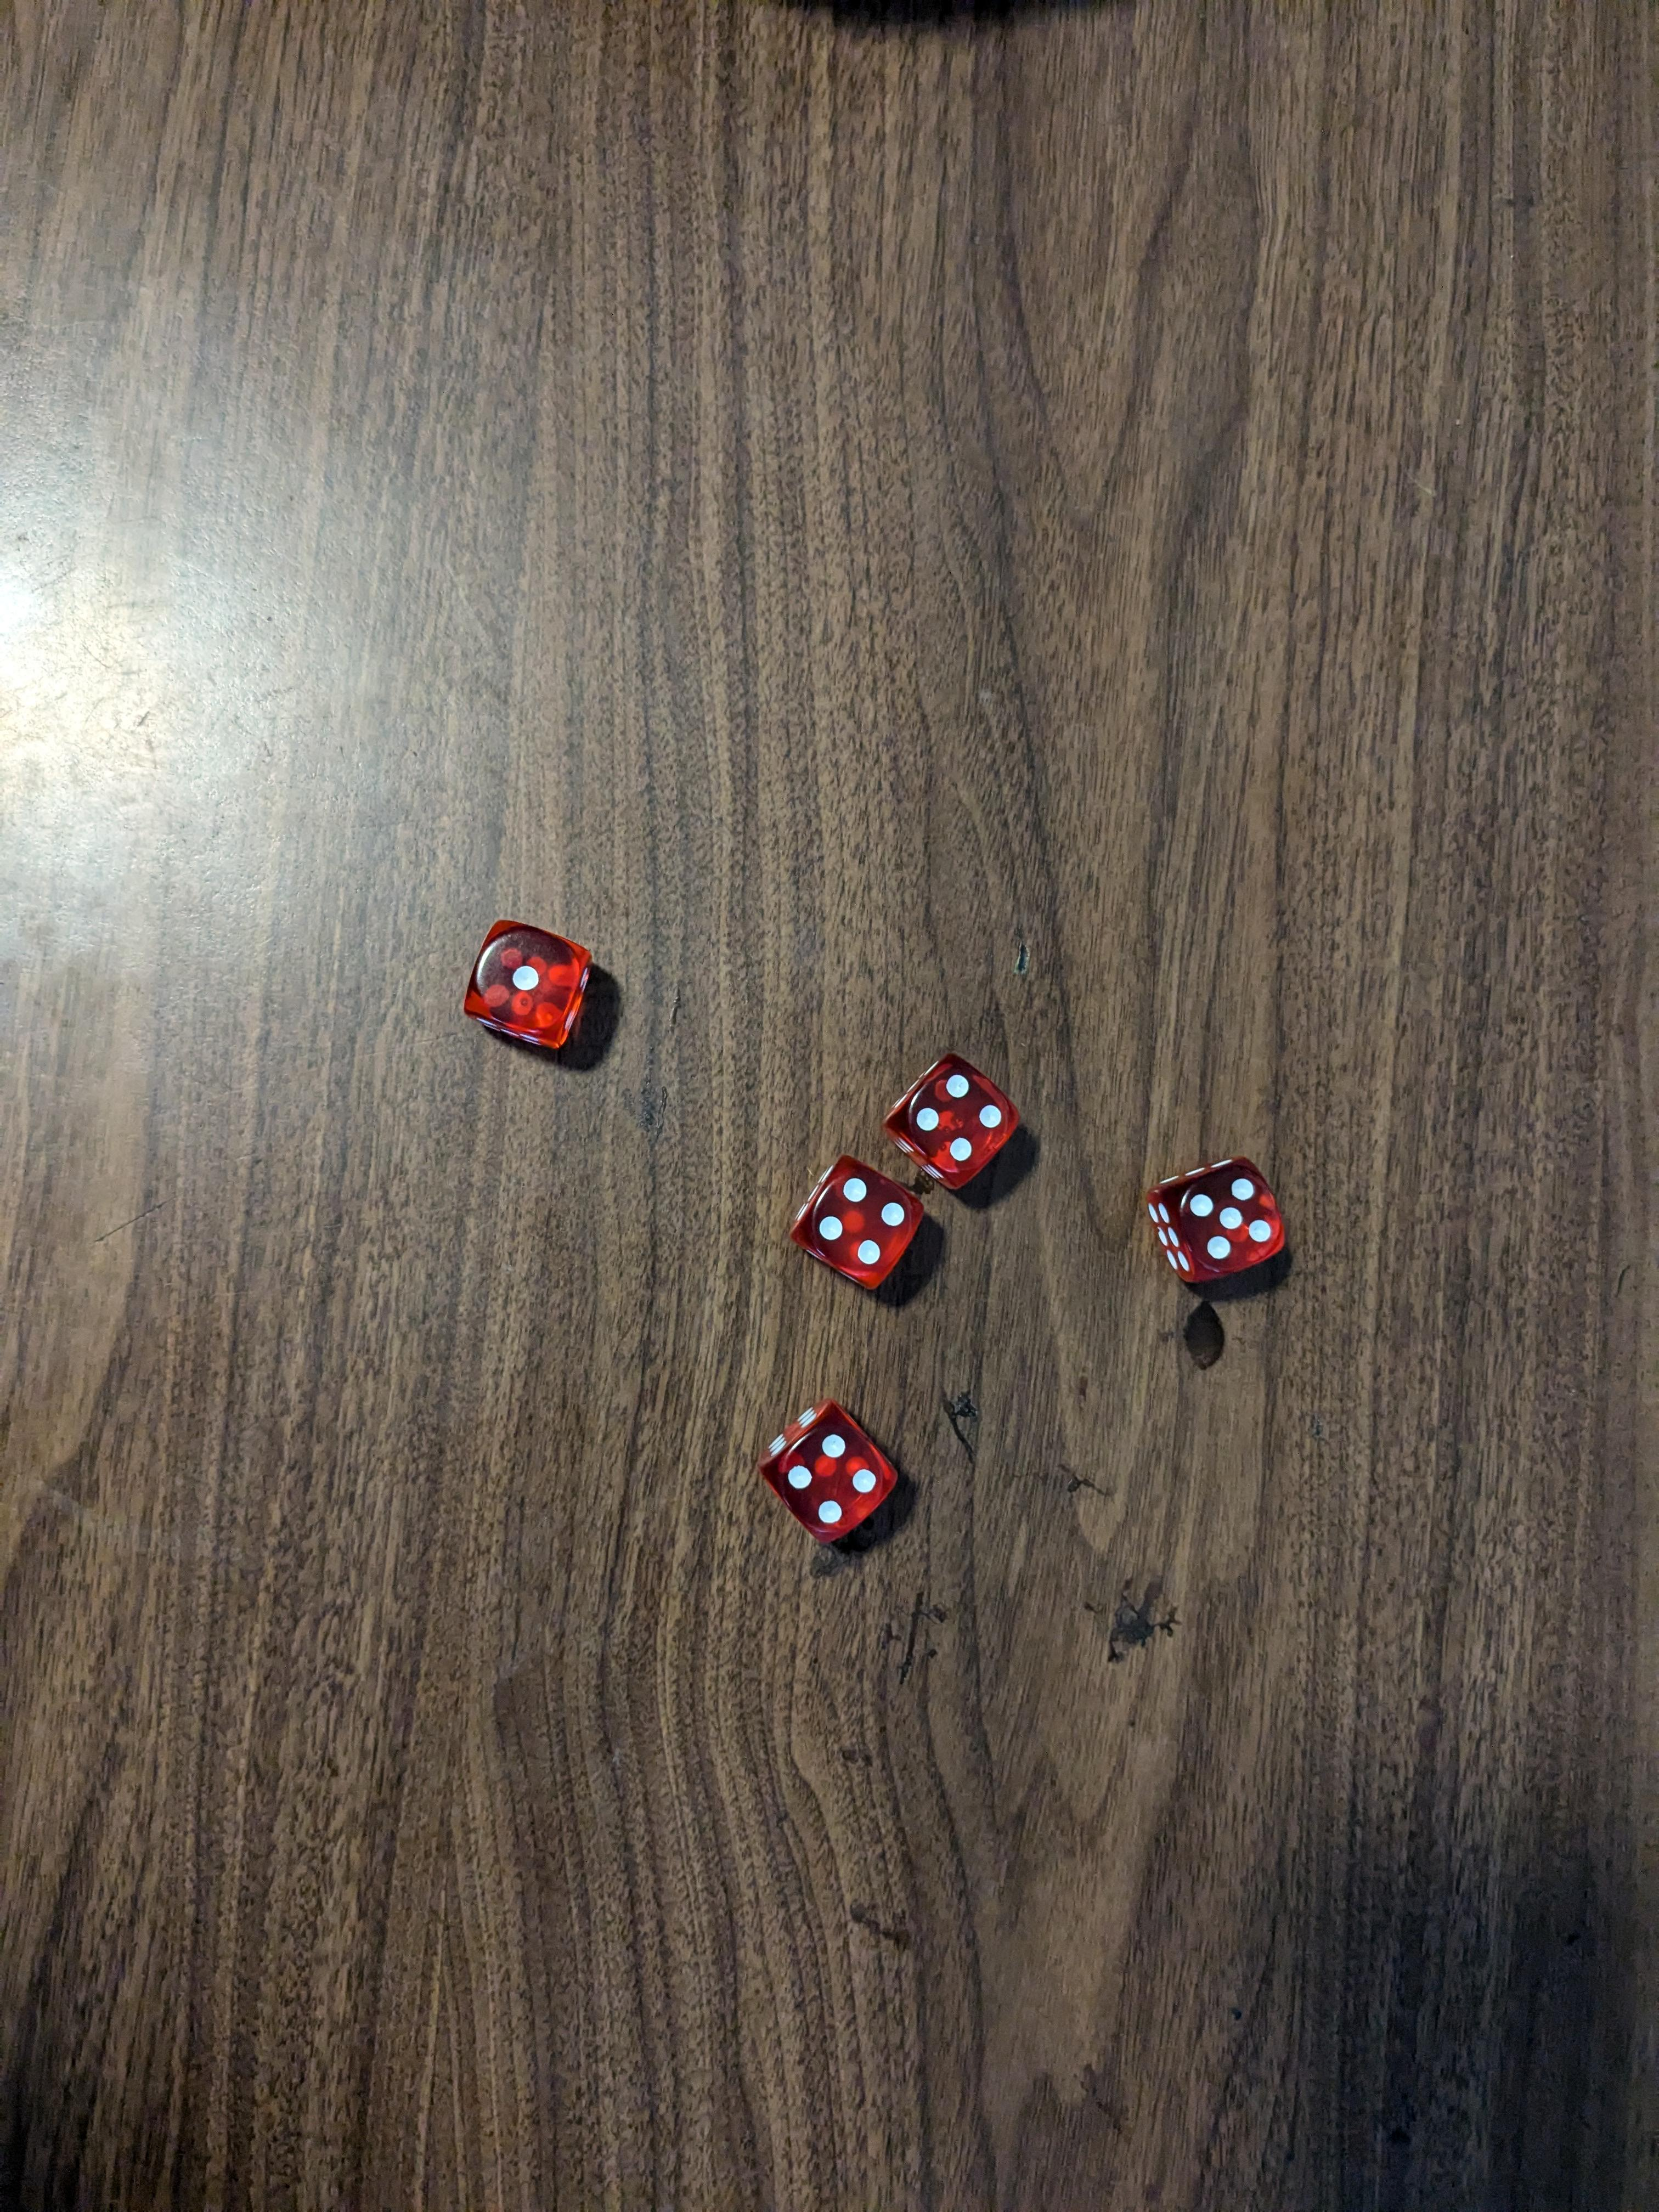five: (1157, 1144, 1290, 1289)
four: (767, 1393, 904, 1545), (887, 1045, 1023, 1191), (795, 1153, 927, 1294)
one: (462, 909, 596, 1055)
